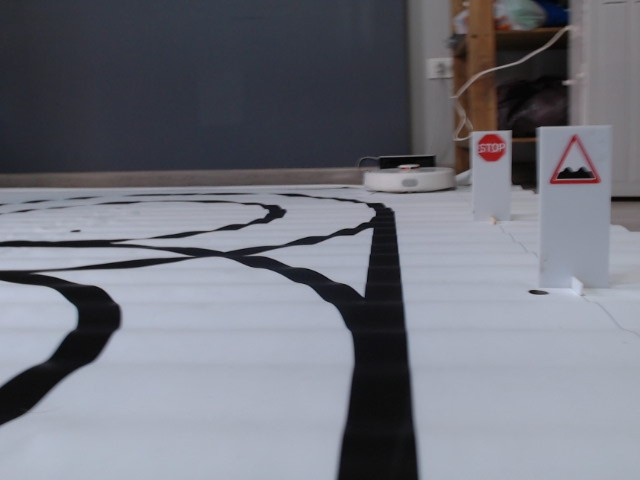Nerov: (549, 134, 603, 187)
Stop: (477, 133, 507, 163)
